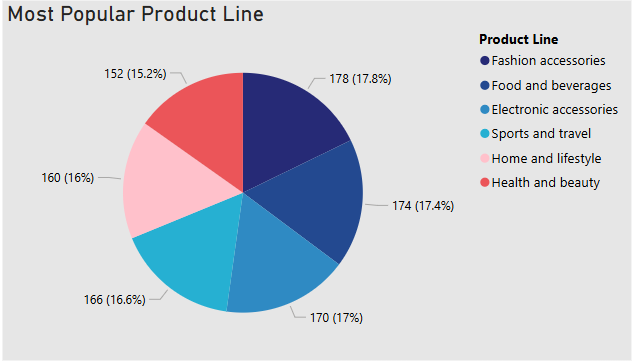

The page's visual inventory and layout, read from the dashboard file:
{"tool":"powerbi","page":{"name":"Most Popular Product Line","canvas":[1280,720],"ordinal":1},"visuals":[{"type":"pieChart","title":"Most Popular Product Line","fields":{"Category":["Most Popular Product Line.Product_Line"],"Y":["Sum(Most Popular Product Line.Total_Orders)"]},"box":[293.7,161.9,690.2,395.2],"z":0}]}

Visuals, with their boxes in screenshot pixels (x1, y1, x2, y2), scaled from the page's 1280x720 canvas onto the 633x363 screenshot:
"Most Popular Product Line" pieChart: bbox=(145, 82, 487, 281)
